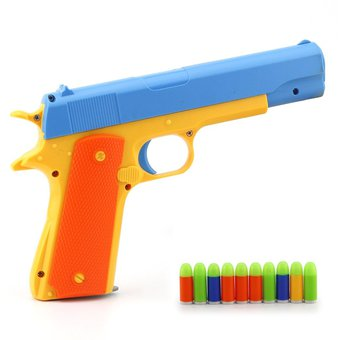Arma Falsa: (12, 42, 340, 294)
